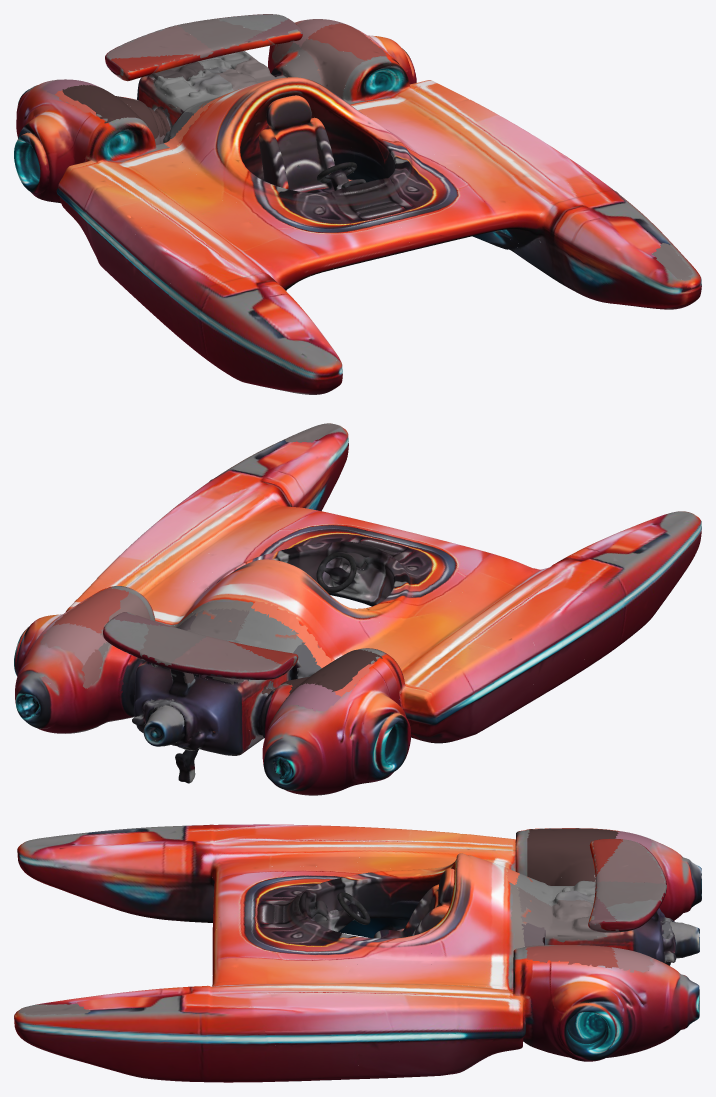
File: boat_redcar.glb
3 views of the same model, one above another, from view 1: azimuth 30°, elevation 25°; view 2: azimuth 150°, elevation 25°; view 3: azimuth 270°, elevation 25° (orthographic). The views are drawn at different scales.
Visible parts, largest first — view 1: tripo_node_e6f0a7ff-d330-41b3-9c43-1c116a57b0e3; view 2: tripo_node_e6f0a7ff-d330-41b3-9c43-1c116a57b0e3; view 3: tripo_node_e6f0a7ff-d330-41b3-9c43-1c116a57b0e3.
Part boxes in pixels (x1=…): tripo_node_e6f0a7ff-d330-41b3-9c43-1c116a57b0e3: x1=14, y1=14, x2=701, y2=394; tripo_node_e6f0a7ff-d330-41b3-9c43-1c116a57b0e3: x1=14, y1=423, x2=701, y2=795; tripo_node_e6f0a7ff-d330-41b3-9c43-1c116a57b0e3: x1=14, y1=824, x2=701, y2=1082.
Bounding box in the file's own units: 0.6823 × 0.2351 × 1.
Materials: 1 (1 with a texture image).
